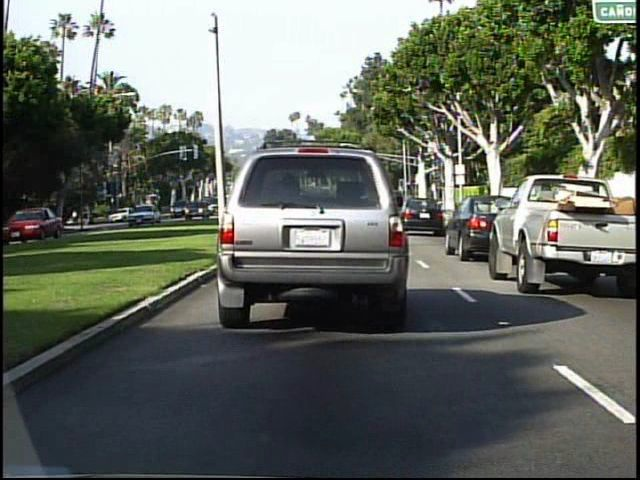person: (72, 207, 80, 227)
